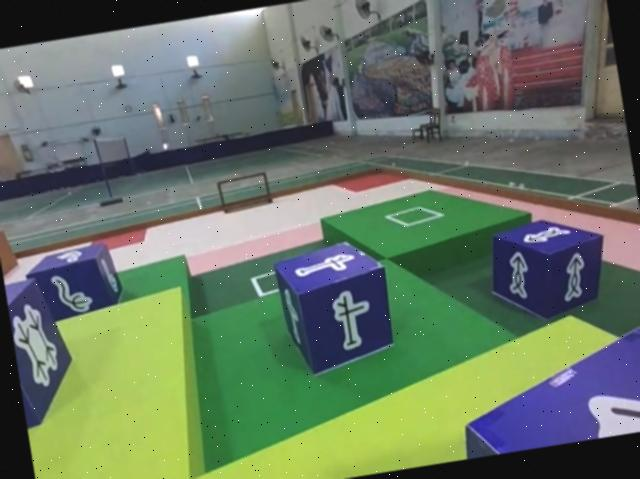R2 Real Blue: (267, 239, 397, 383), (479, 210, 612, 327), (3, 274, 83, 442), (20, 242, 125, 330)
